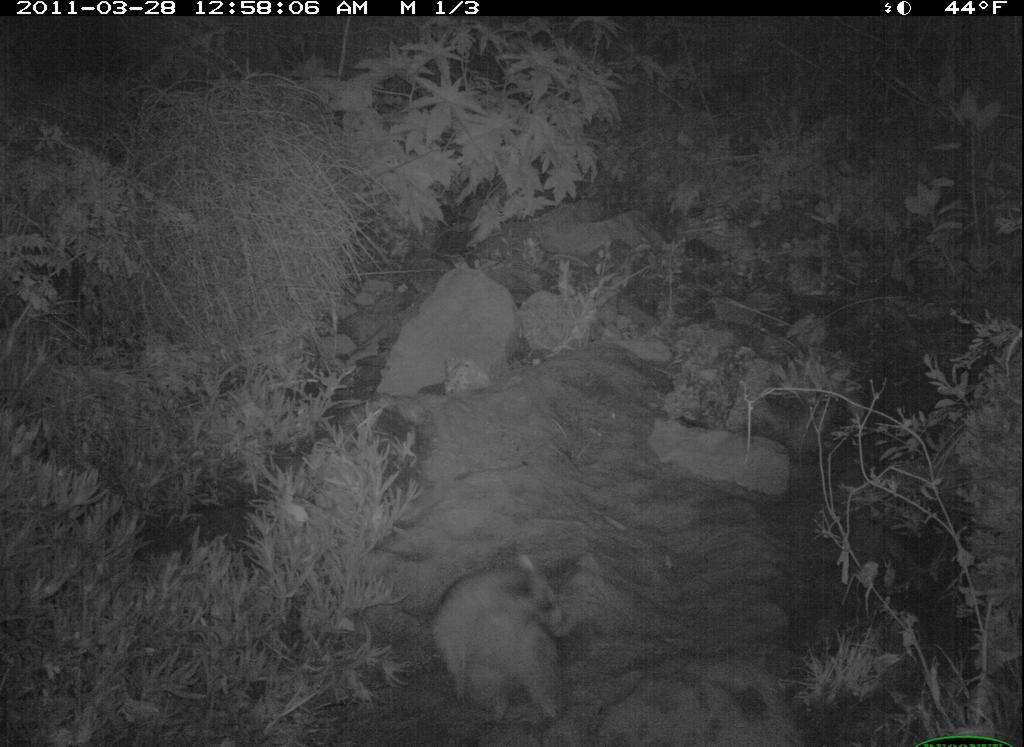raccoon: (413, 556, 591, 737)
